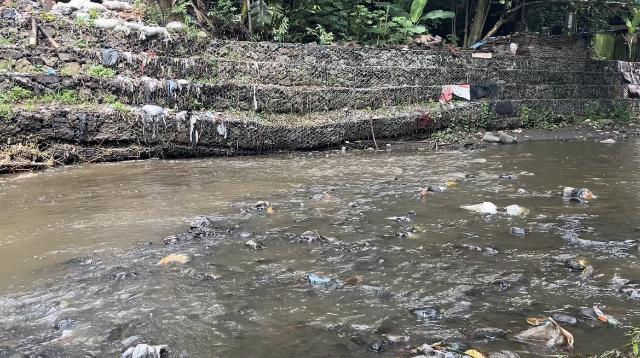Sampah Anorganik: (509, 322, 584, 356), (403, 339, 488, 358), (559, 185, 601, 206), (306, 272, 336, 293), (465, 201, 499, 217), (589, 303, 619, 321), (381, 214, 414, 225), (507, 203, 525, 213), (437, 181, 456, 188)
Sampah Organik: (337, 274, 376, 299), (158, 251, 198, 271), (399, 228, 429, 241), (571, 256, 585, 269), (263, 206, 275, 214), (321, 189, 330, 199), (419, 190, 425, 196)
